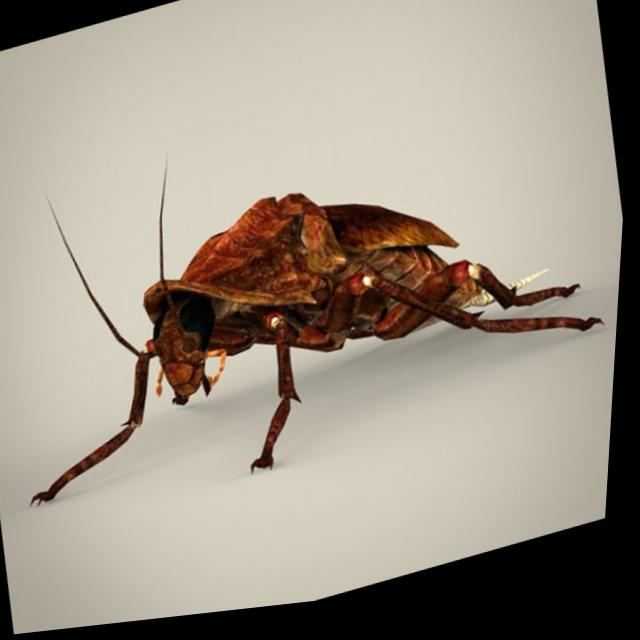Cockroach: (0, 32, 635, 556)
